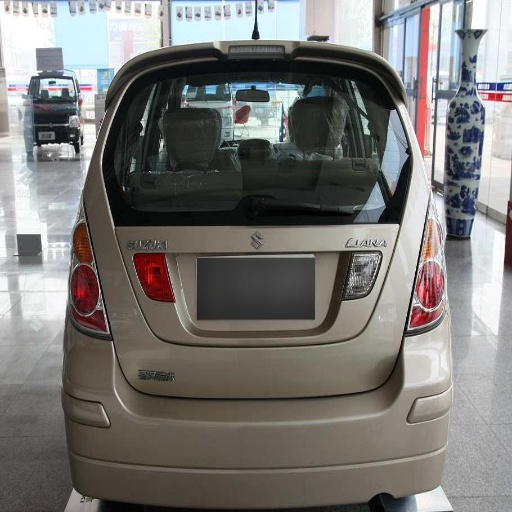_background_: (143, 210, 285, 224)
back_bumper: (71, 309, 454, 511)
tailgate: (89, 184, 425, 392)
